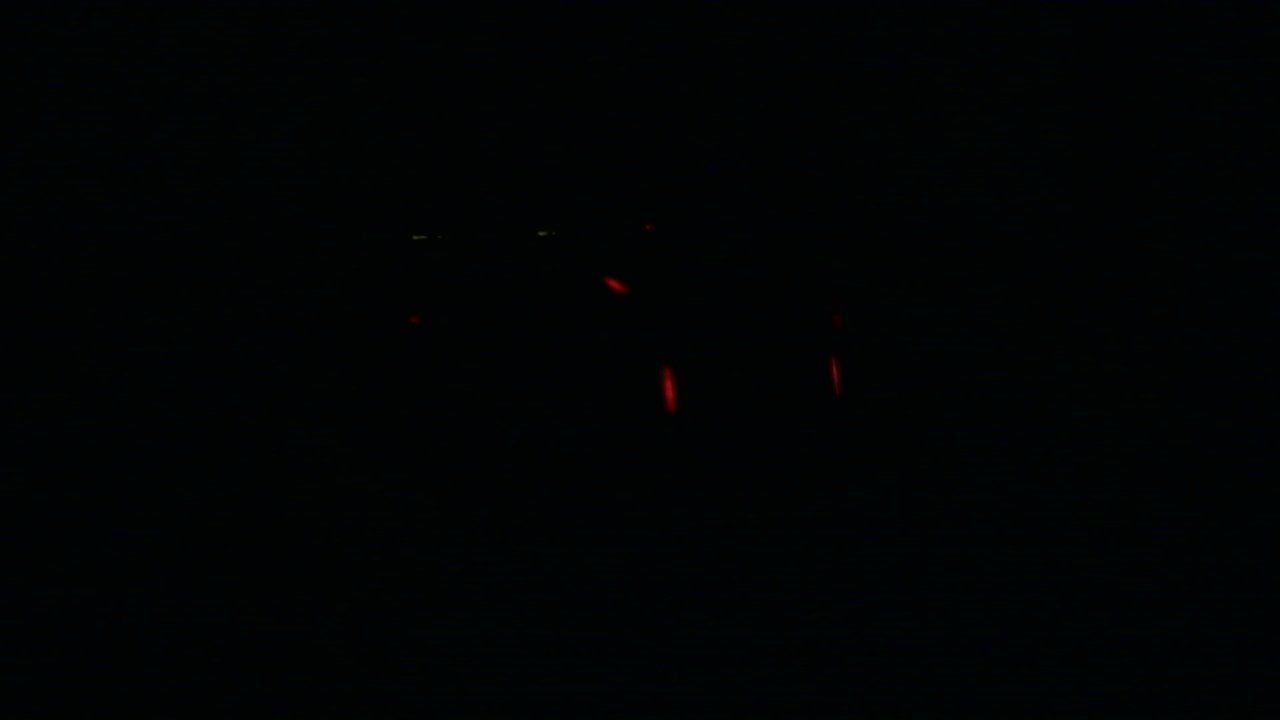lamp: (660, 357, 676, 406), (830, 356, 840, 406)
pair2: (661, 357, 842, 406)
